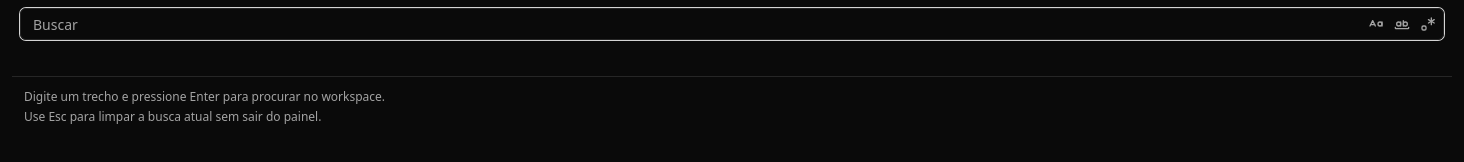
Scenario: <CodeSearchPanel /> › colapsa e expande resultados por arquivo
Type "hello" into the field with placeholder "Buscar" at (732, 24), box top-left (20, 8), bottom-right (1444, 40)
Then press Enter
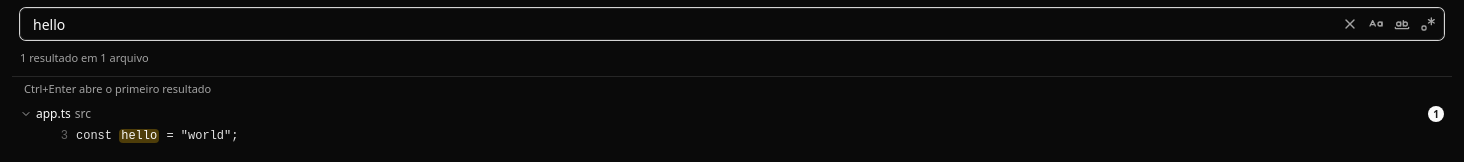
Check: the button titled "Linha 3, coluna 7" is shown, box top-left (12, 126), bottom-right (1452, 146)
Click the button "app.ts src 1" at (53, 113), box top-left (12, 102), bottom-right (1452, 126)
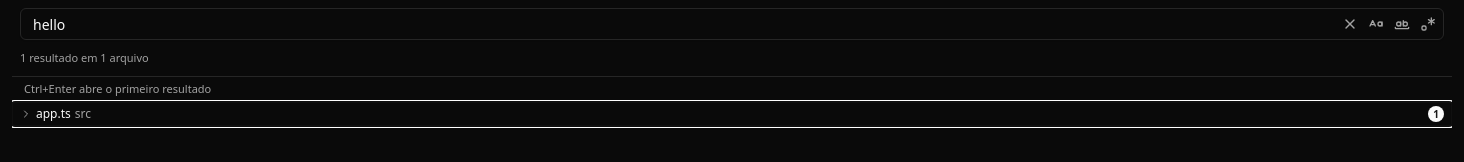
Click the button "app.ts src 1" at (53, 113), box top-left (12, 102), bottom-right (1452, 126)
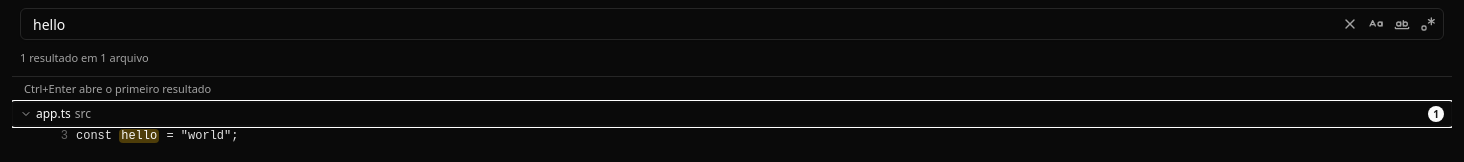
Check: the button titled "Linha 3, coluna 7" is shown, box top-left (12, 126), bottom-right (1452, 146)
